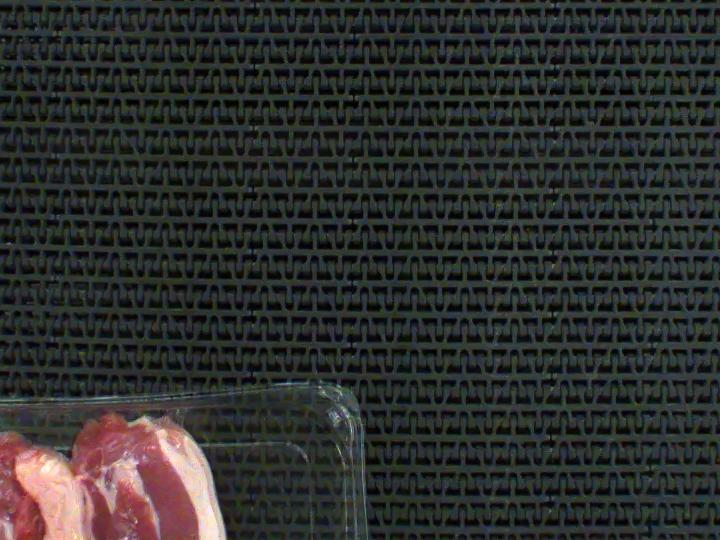packaging-error: (0, 375, 210, 453)
